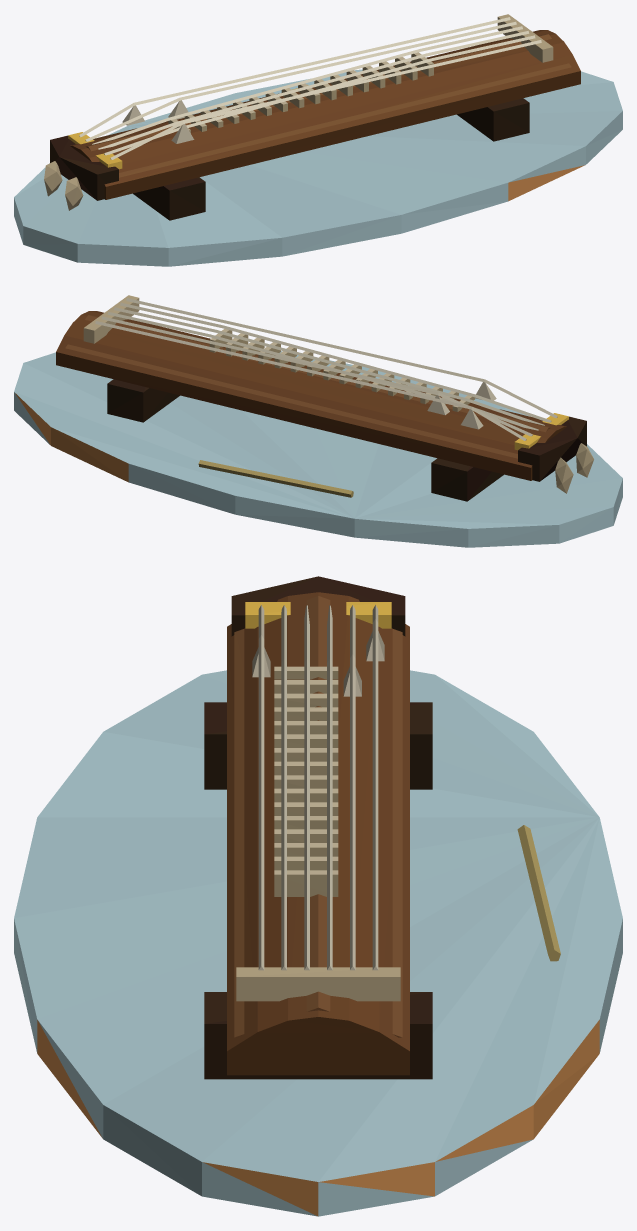
Rendered from harp.glb.
3 renders of one model, top to bottom at view 1: azimuth 30°, elevation 25°; view 2: azimuth 150°, elevation 25°; view 3: azimuth 270°, elevation 25°, orthographic. The views are drawn at different scales.
Visible parts, largest first — view 1: base, string5_m, string0_m, string4_m, string3_m, string2_m, string1_m; view 2: base, string5_m, string0_m, string1_m, string2_m, string4_m, string3_m; view 3: base, string0_m, string5_m, string1_m, string4_m, string2_m, string3_m.
Part boxes in pixels (<box>): base: <box>14,14,622,266</box>; string5_m: <box>79,17,510,137</box>; string0_m: <box>110,40,541,159</box>; string4_m: <box>85,21,516,141</box>; string3_m: <box>92,26,522,144</box>; string2_m: <box>98,31,529,149</box>; string1_m: <box>104,35,535,155</box>; base: <box>14,295,622,547</box>; string5_m: <box>95,321,526,440</box>; string0_m: <box>126,298,557,418</box>; string1_m: <box>120,302,551,422</box>; string2_m: <box>114,307,544,425</box>; string4_m: <box>101,316,532,436</box>; string3_m: <box>107,312,538,430</box>; base: <box>14,576,622,1216</box>; string0_m: <box>258,605,264,970</box>; string5_m: <box>372,605,378,970</box>; string1_m: <box>281,605,286,970</box>; string4_m: <box>350,605,355,970</box>; string2_m: <box>304,605,309,970</box>; string3_m: <box>327,605,332,970</box>.
Bounding box in the file's own units: 1.64 × 0.2652 × 0.8001.
